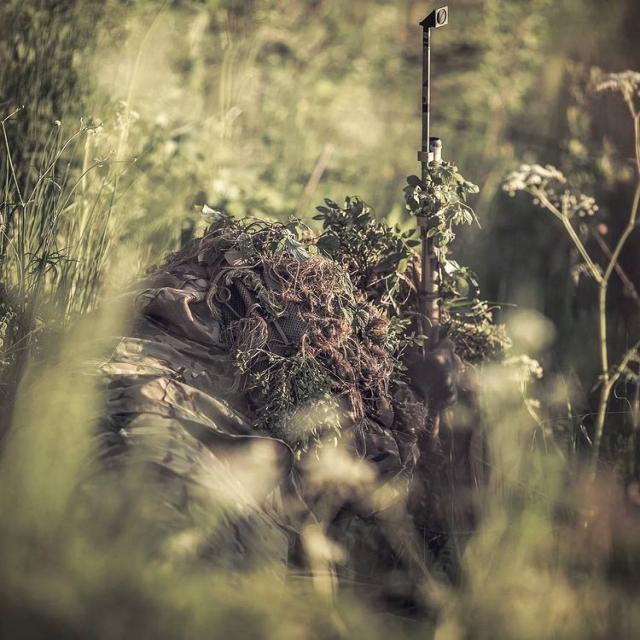Camouflage: (26, 6, 518, 601)
